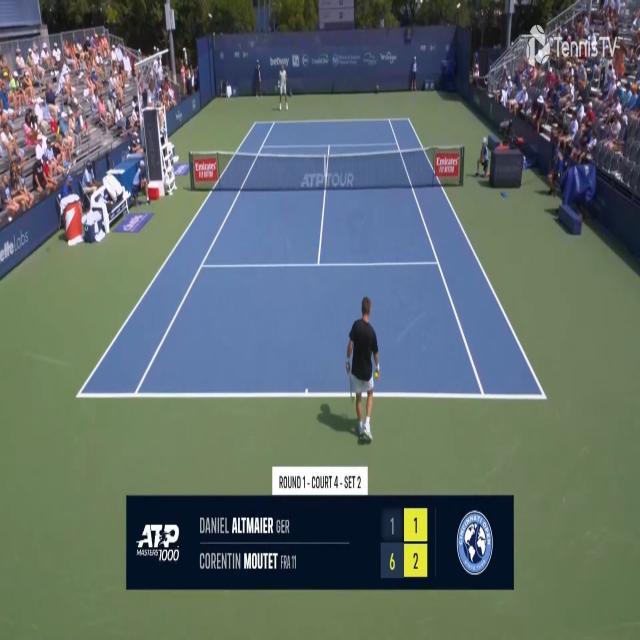tennis-player: (344, 293, 381, 444), (276, 64, 292, 110)
